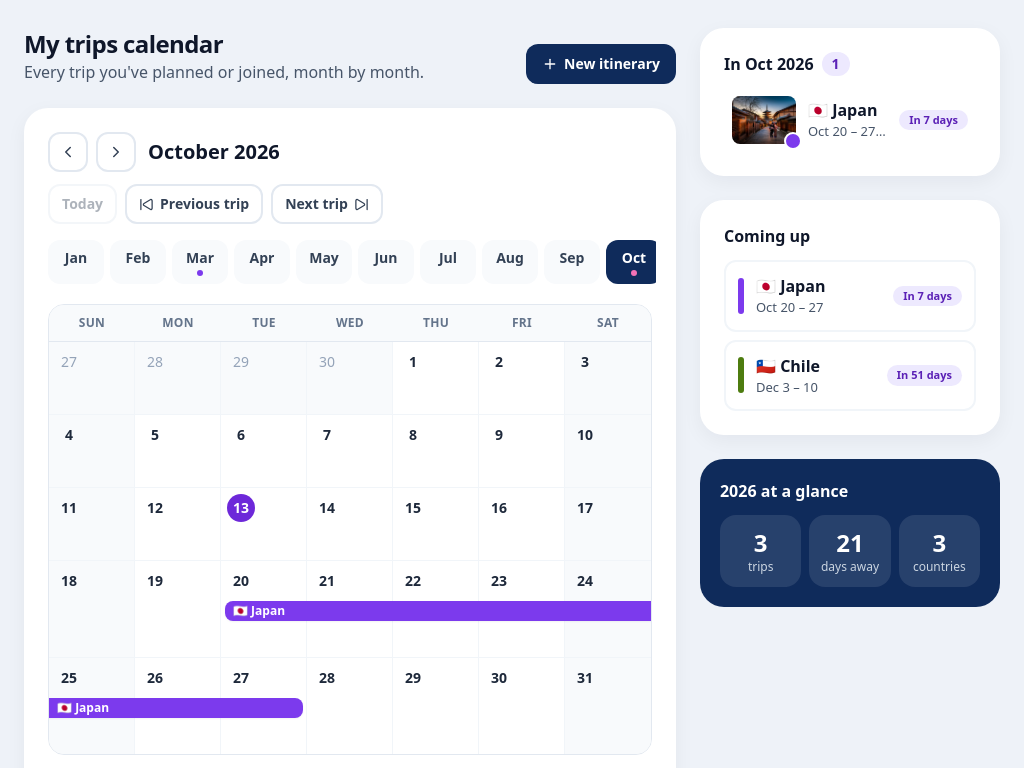
Test: CalendarPage › next trip jumps to the next month with a trip, and shared trips are labeled
Click the button "Next trip" at (327, 204), box [271,184,383,224]
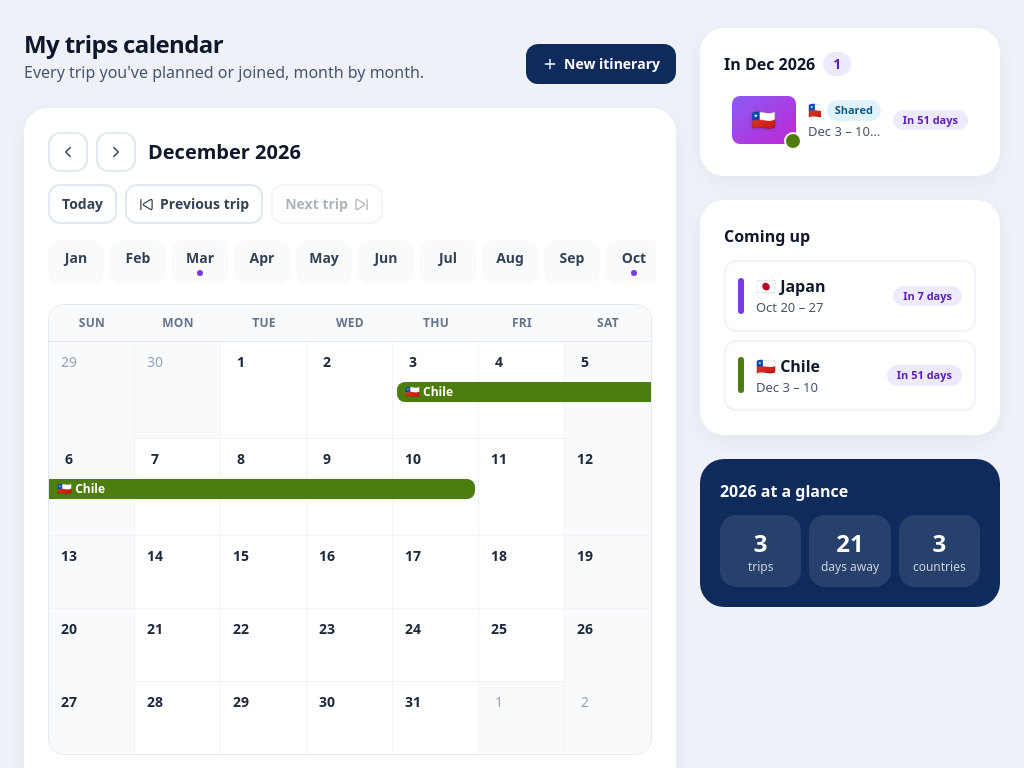
Expected: the heading "December 2026" is shown, [148,138,308,166]
Expected: the text "Shared" is shown, [827,100,881,120]
